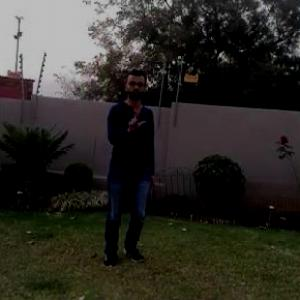land_hand: (123, 102, 145, 133)
